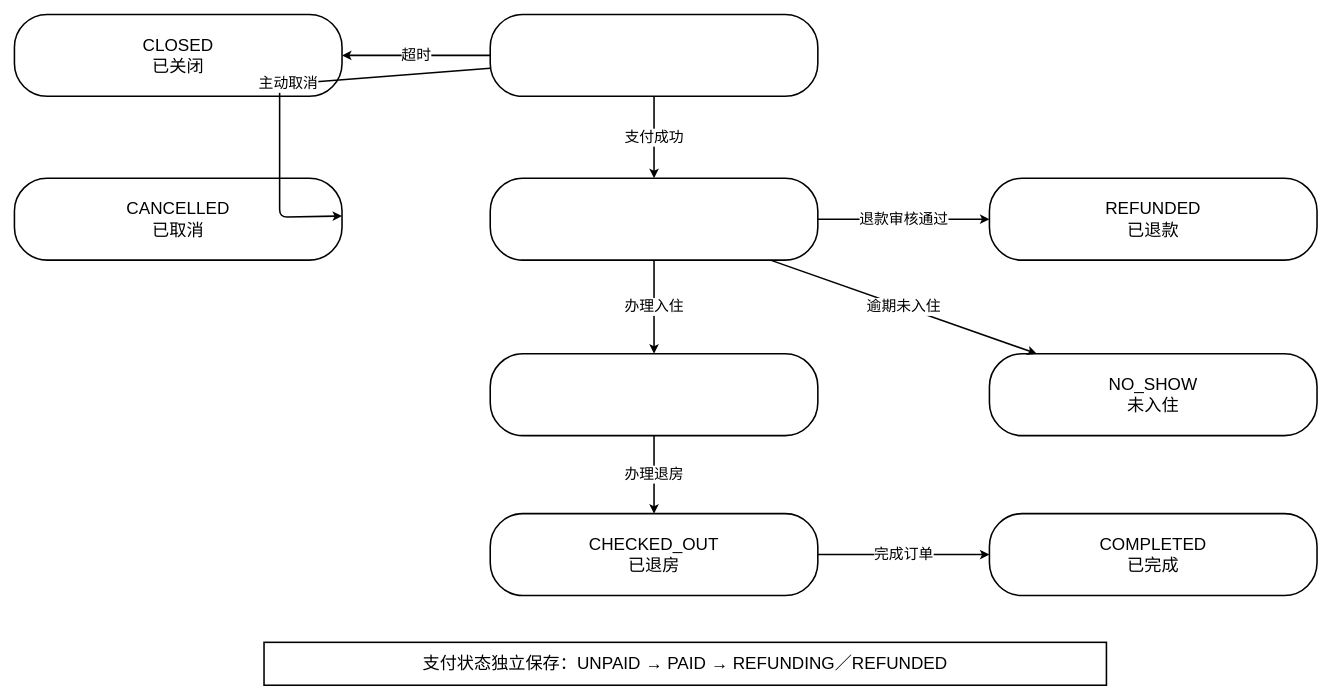
Some shapes in this 1331 by 699 pixel diagram are drawn without their labels. Here are the shapes that lost their labels. From the top down, the box of each, then its label:
(489, 13, 818, 97): WAIT_PAY 待支付
(489, 177, 818, 261): CONFIRMED 已确认
(489, 353, 818, 436): CHECKED_IN 已入住
